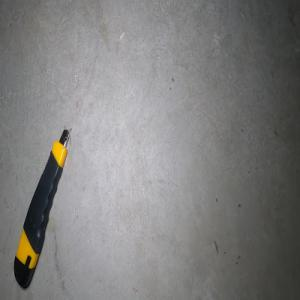Cutter: (12, 128, 70, 288)
